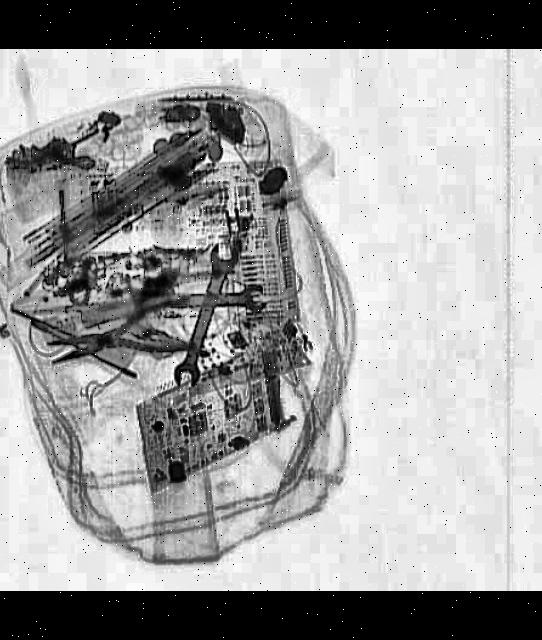Pliers: (43, 291, 203, 377)
Wrench: (171, 240, 243, 388), (156, 280, 266, 314)
